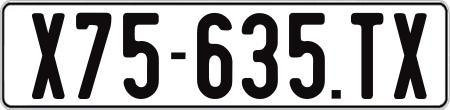3: (239, 12, 279, 102)
5: (122, 10, 163, 99), (289, 10, 327, 96)
6: (195, 11, 236, 103)
7: (76, 12, 115, 98)
T: (351, 10, 385, 101)
X: (32, 12, 67, 99), (392, 13, 425, 103)
